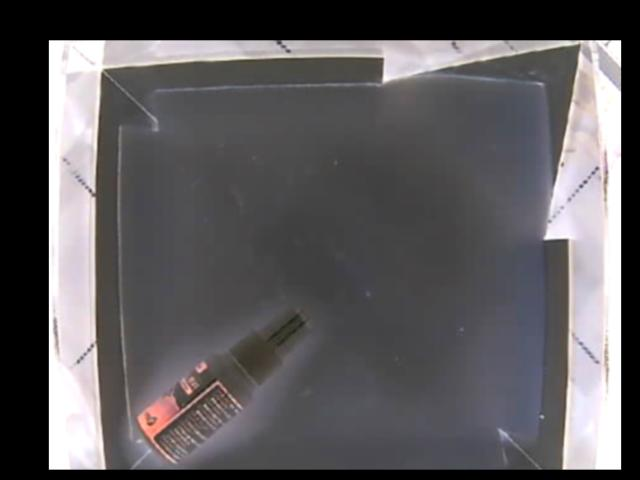Bottle: (132, 303, 311, 463)
